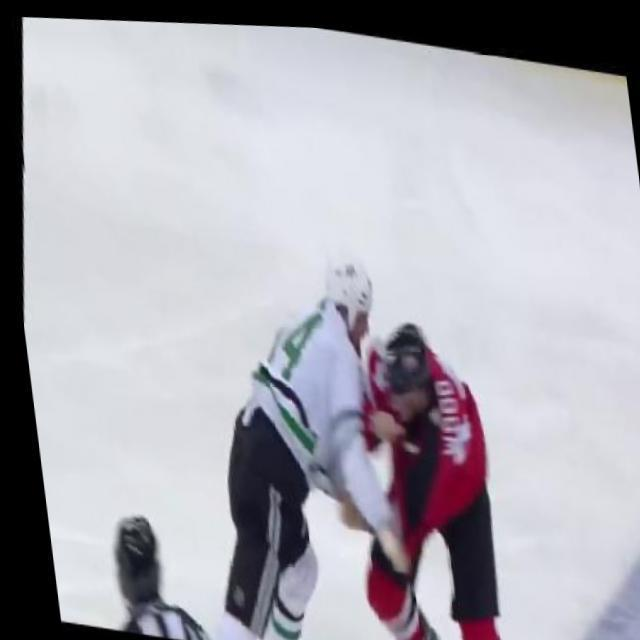fight: (170, 209, 548, 640)
